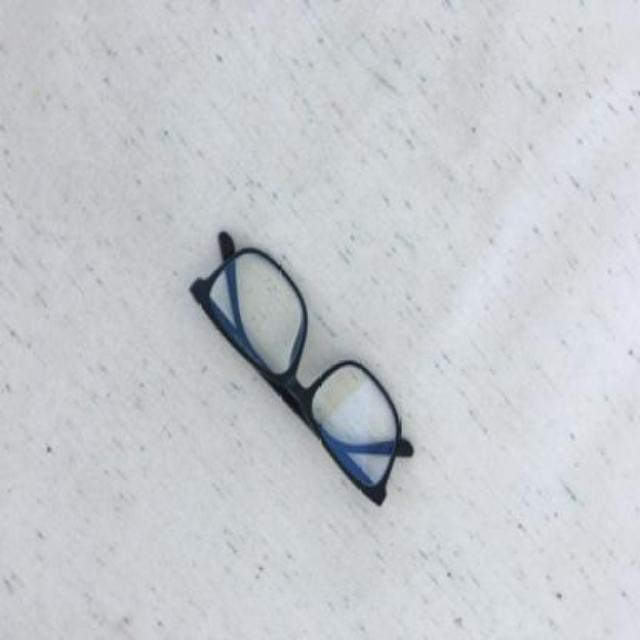glasses: (188, 230, 414, 506)
